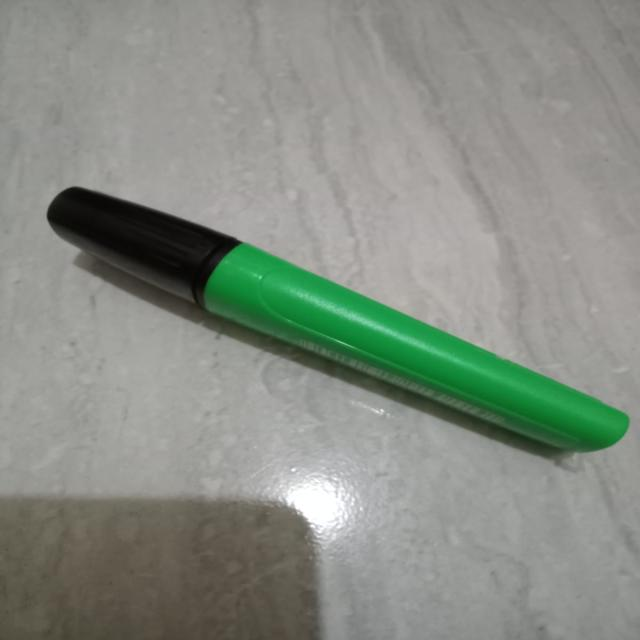highlighter: (21, 170, 640, 484)
